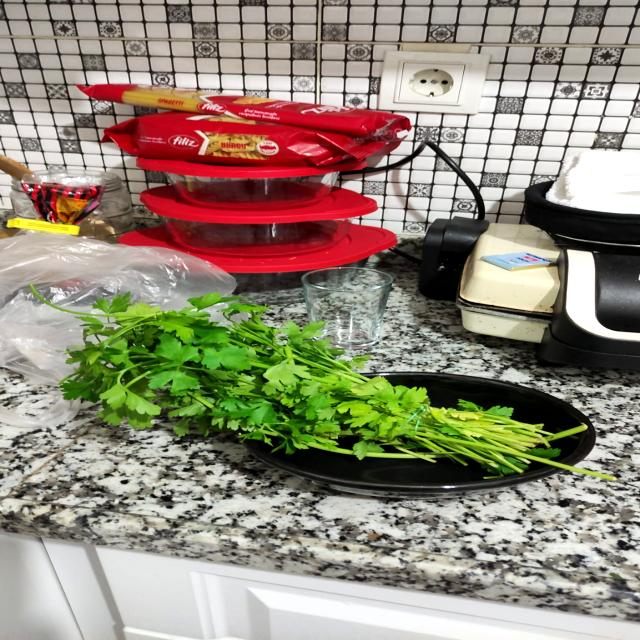parsley: (29, 277, 624, 490)
